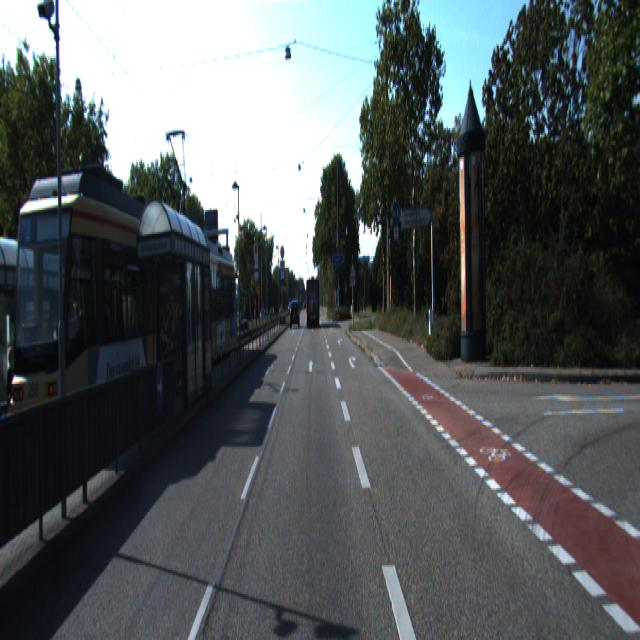Car: (290, 301, 299, 329)
DontCare: (259, 306, 273, 320)
Tram: (0, 171, 213, 479), (181, 241, 243, 368)
Truck: (306, 276, 320, 327)
